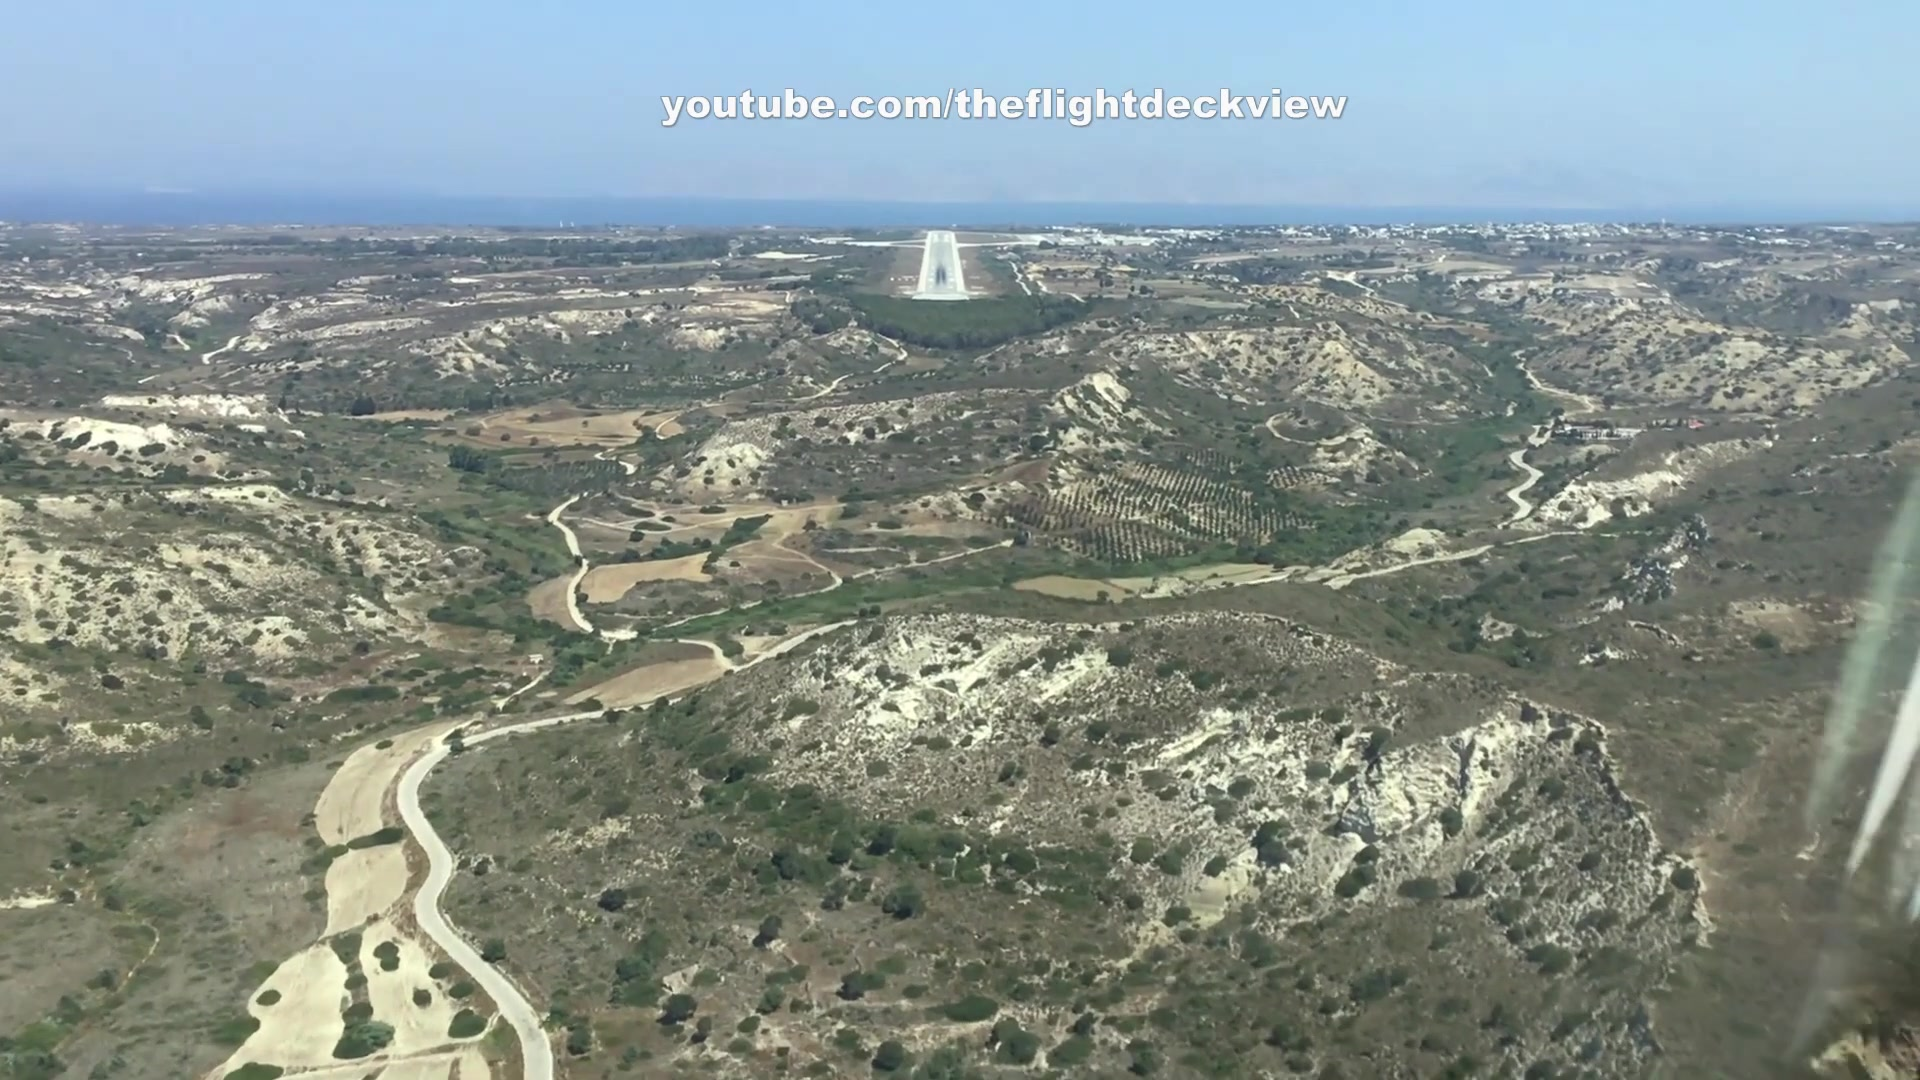runway: (916, 231, 963, 301)
